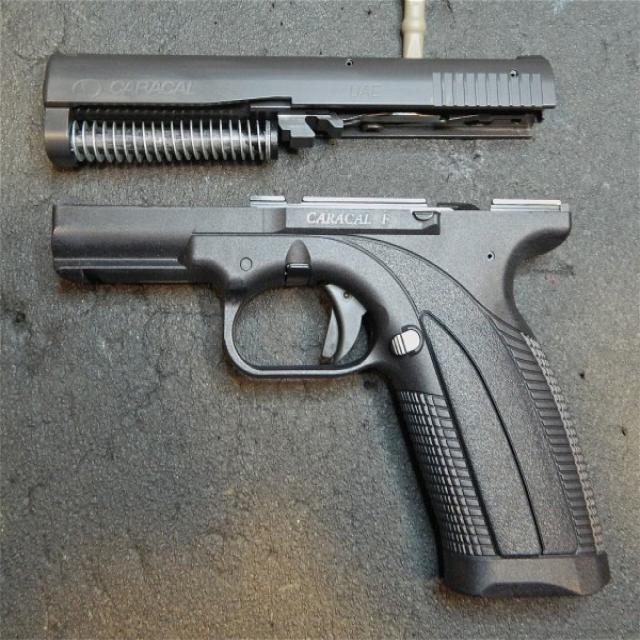Gun: (22, 17, 610, 602)
